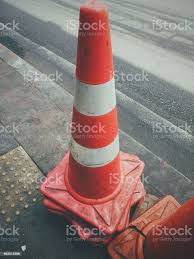cones: (40, 4, 143, 231)
